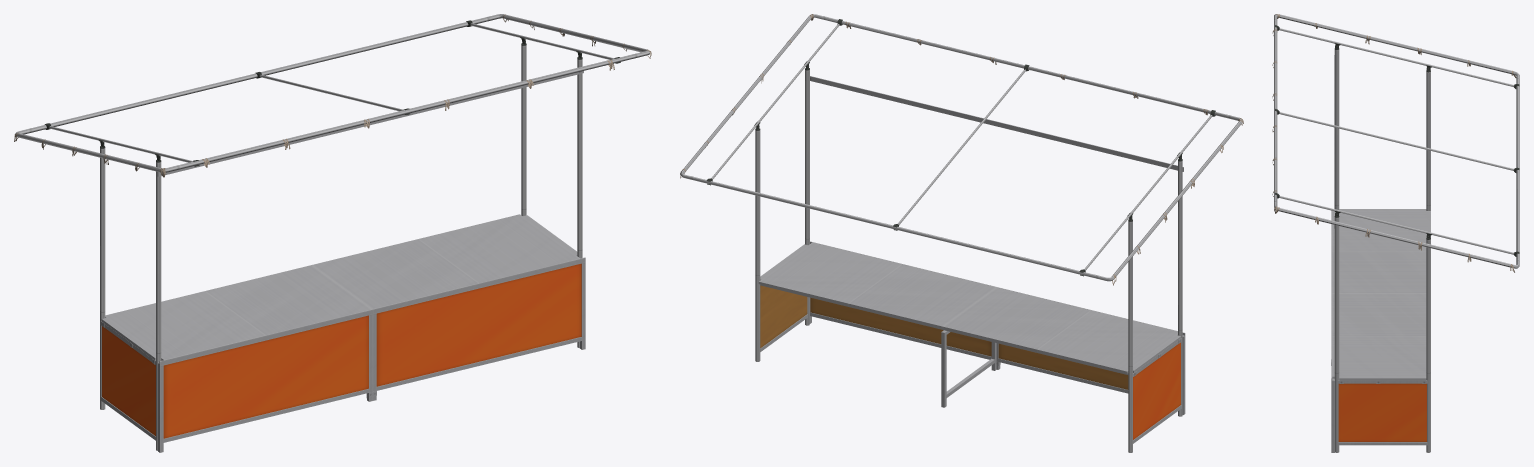
The model's file is jsf_4P_s04_c01_t01.fbx.
3 renders of one model, left to right at view 1: azimuth 30°, elevation 25°; view 2: azimuth 150°, elevation 25°; view 3: azimuth 270°, elevation 25°, orthographic. The views are drawn at different scales.
Parts seen in each view (by area): view 1: Base_s04_c01, Table_4P_s04_t01, Pillar4_s04, Rope_4P_s04; view 2: Table_4P_s04_t01, Pillar4_s04, Base_s04_c01, Support; view 3: Table_4P_s04_t01, Pillar4_s04, Base_s04_c01, Rope_4P_s04.
Part boxes in pixels (x1,y1,x2,y2): Base_s04_c01: [100, 257, 585, 452]; Table_4P_s04_t01: [101, 214, 579, 364]; Pillar4_s04: [14, 14, 649, 450]; Rope_4P_s04: [14, 14, 651, 177]; Table_4P_s04_t01: [758, 242, 1181, 376]; Pillar4_s04: [680, 14, 1242, 452]; Base_s04_c01: [760, 241, 1185, 443]; Support: [941, 330, 996, 407]; Table_4P_s04_t01: [1332, 209, 1430, 383]; Pillar4_s04: [1274, 14, 1519, 452]; Base_s04_c01: [1331, 210, 1427, 452]; Rope_4P_s04: [1272, 14, 1516, 272].
Bounding box in the file's own units: 395 × 243 × 211.
